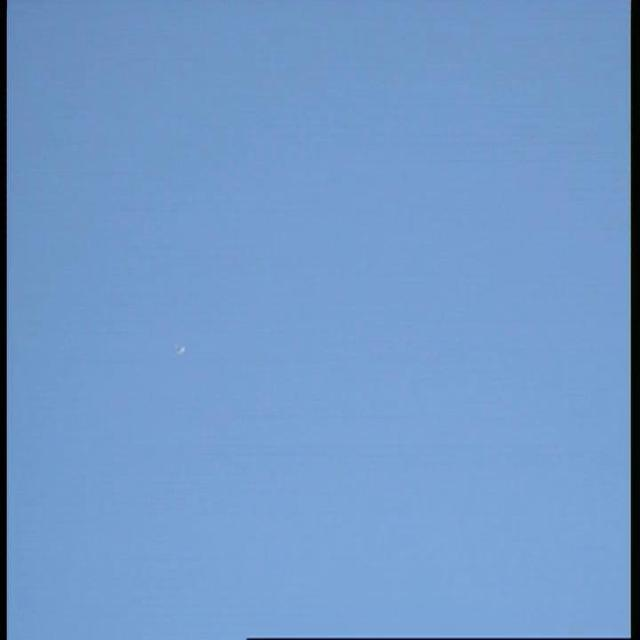drone: (170, 336, 190, 358)
